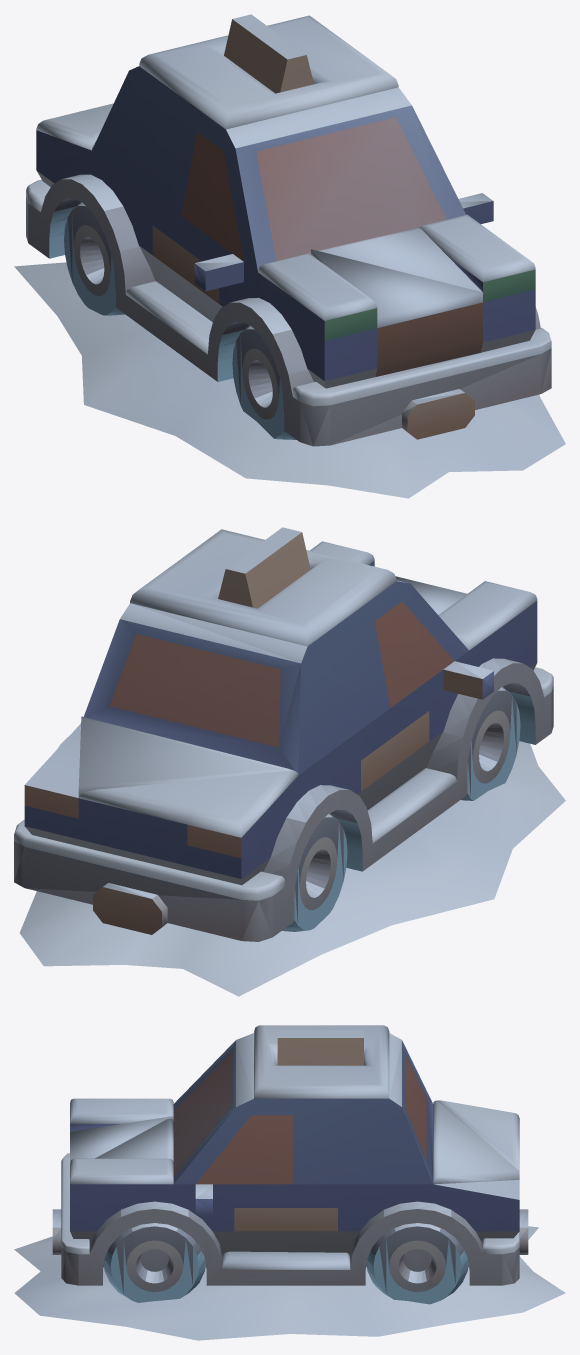
File: k_taxi.glb
3 renders of one model, top to bottom at view 1: azimuth 30°, elevation 25°; view 2: azimuth 150°, elevation 25°; view 3: azimuth 270°, elevation 25°, orthographic. The views are drawn at different scales.
Visible parts, largest first — view 1: Body; view 2: Body; view 3: Body.
Part boxes in pixels (bbox=[...]): Body: bbox=[14, 14, 565, 498]; Body: bbox=[14, 527, 565, 996]; Body: bbox=[14, 1025, 565, 1340].
Size of the model in its own units: 3.37 by 2.53 by 5.34.
